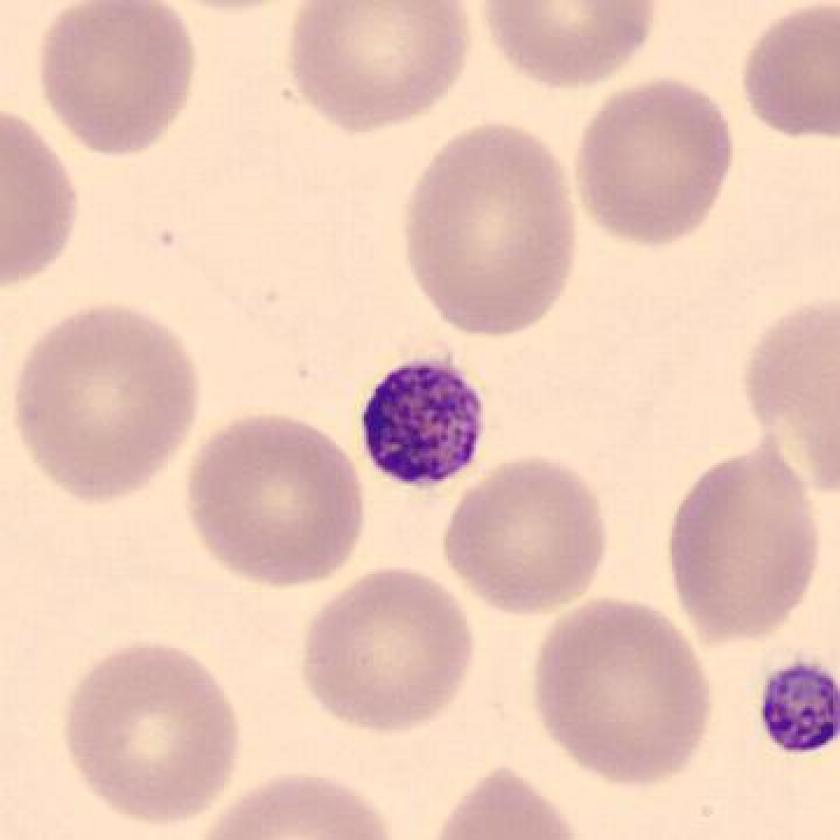platelets: (346, 346, 498, 501), (750, 654, 840, 767)
